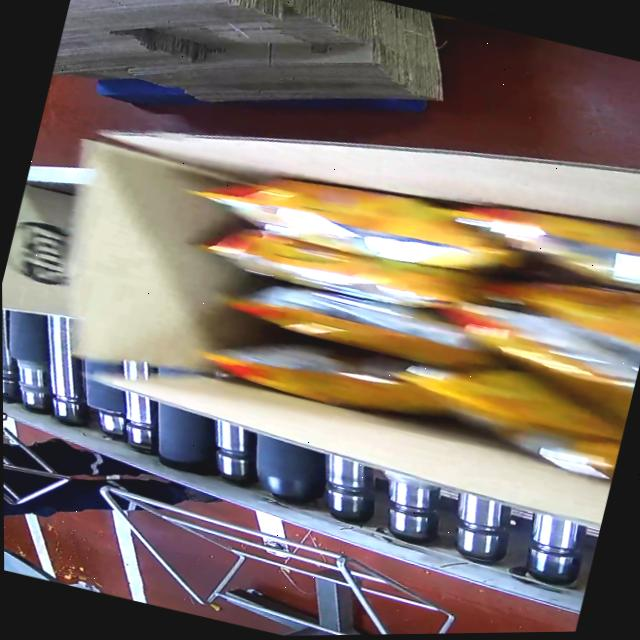FRENCH_CHEESE: (137, 116, 640, 492)
